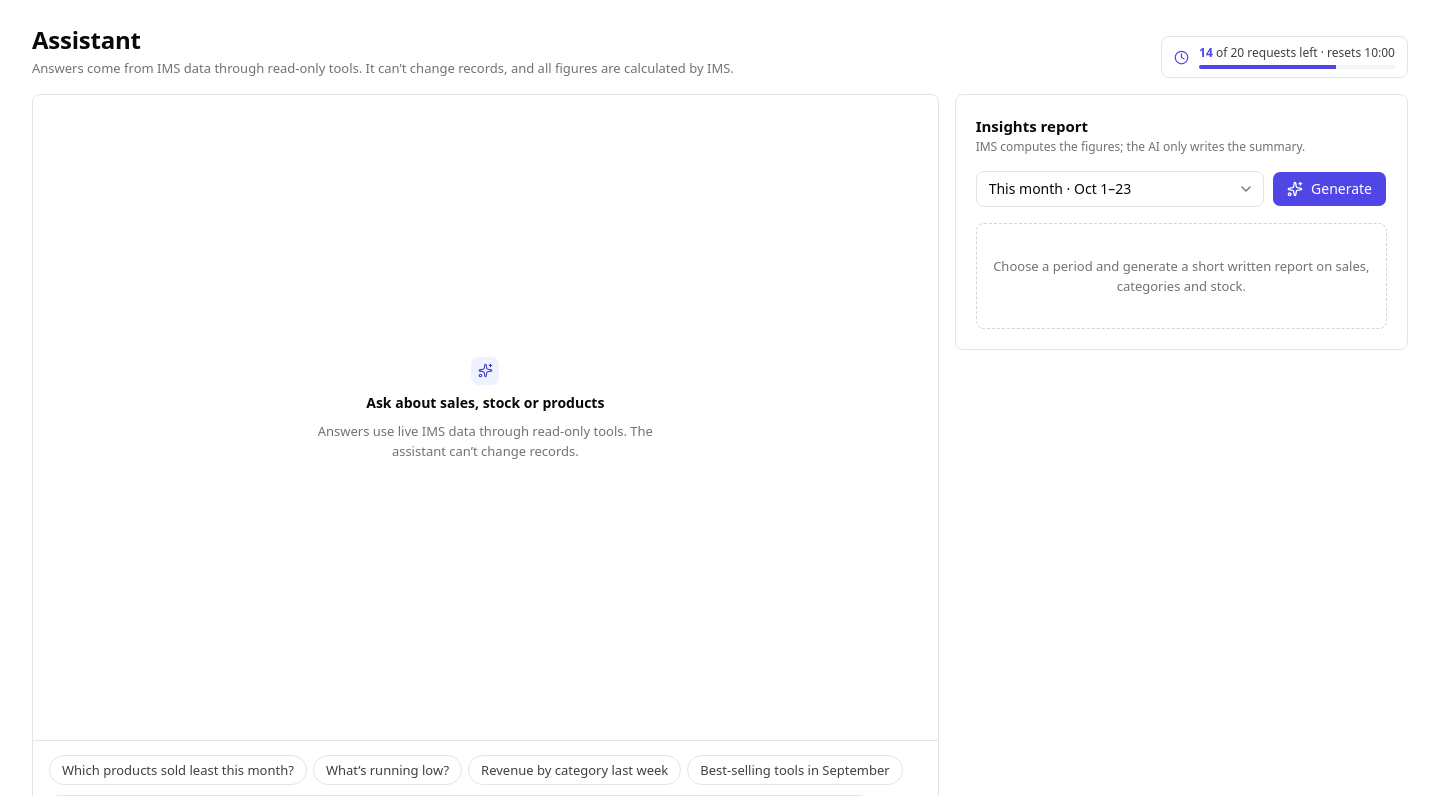
Scenario: AssistantPage (M8) › generates an insights report from the selected period
What coordinates should you click on to do the following:
click the button "Generate"
I would click on:
 (1330, 189)
Its box is x1=1272 y1=171 x2=1387 y2=207.
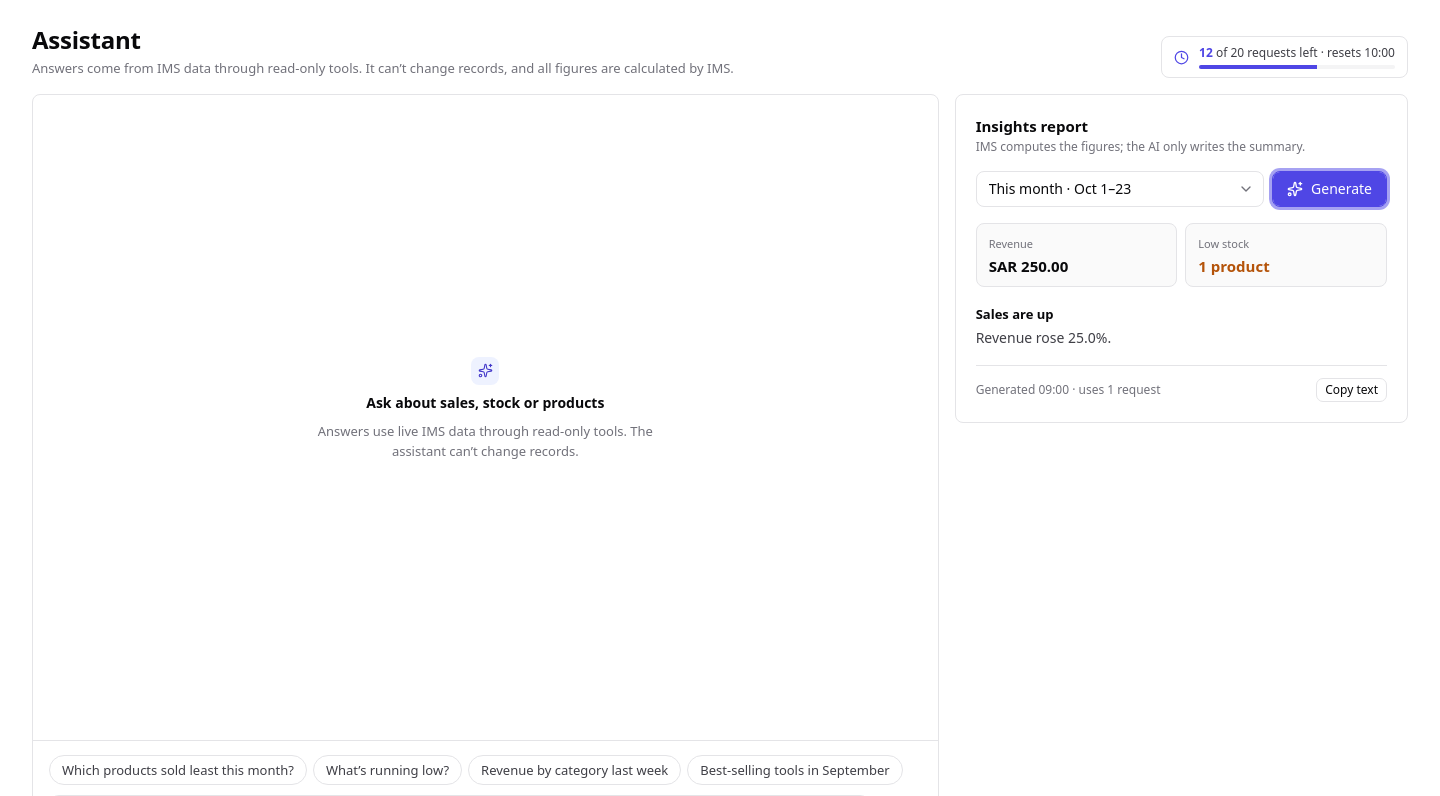
Expected: the text "Sales are up" is shown, x1=976 y1=305 x2=1054 y2=323
Expected: the text "Revenue rose 25.0%." is shown, x1=976 y1=328 x2=1111 y2=347
Expected: the text "SAR 250.00" is shown, x1=989 y1=256 x2=1068 y2=276
